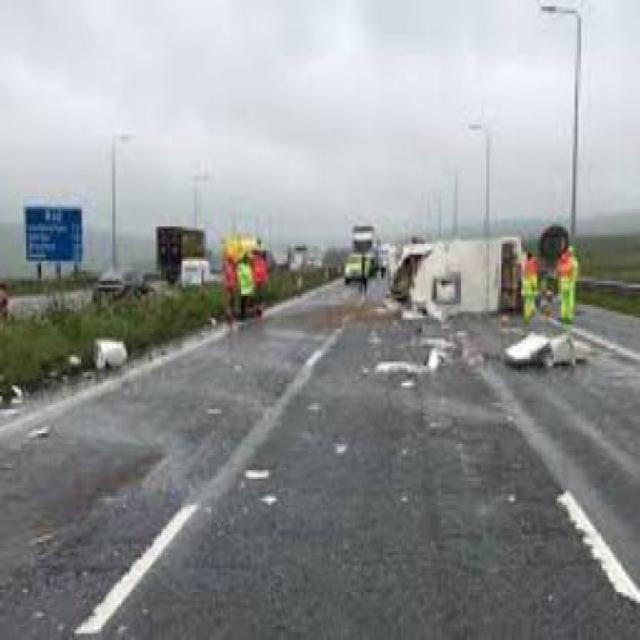accident: (383, 224, 543, 318)
